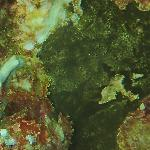dead: (2, 1, 149, 145)
